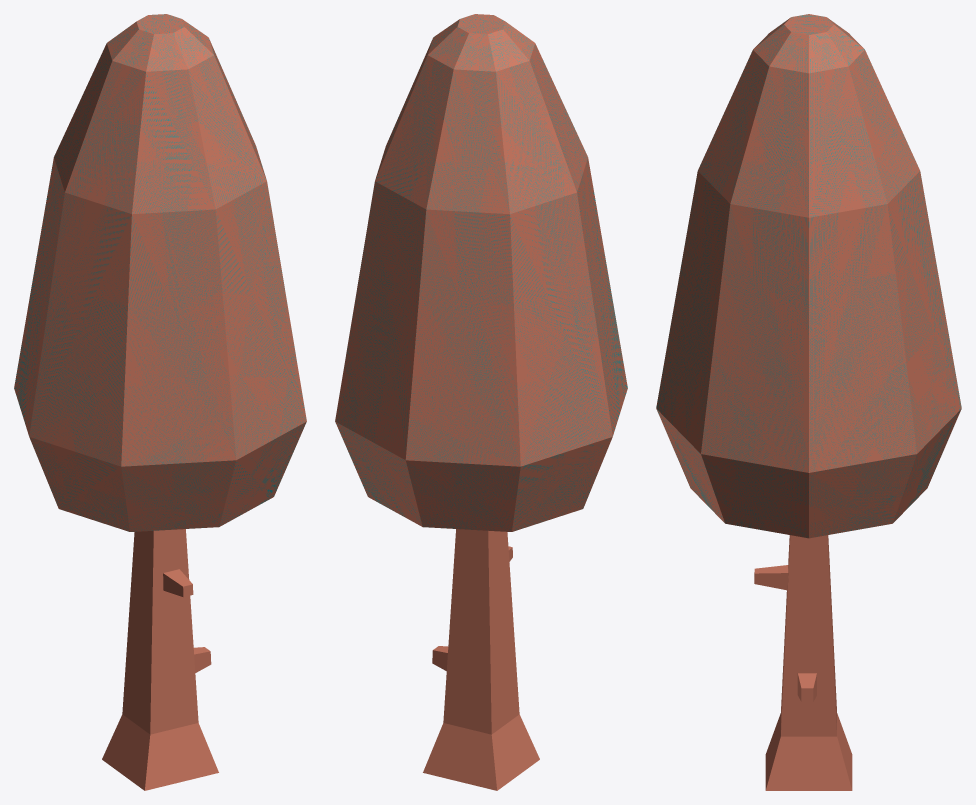
File: tree_cone_dark.dae
The picture shows the model from 3 angles, left to right: view 1: azimuth 30°, elevation 25°; view 2: azimuth 150°, elevation 25°; view 3: azimuth 270°, elevation 25°; orthographic projection.
Visible parts, largest first — view 1: tree_cone_dark; view 2: tree_cone_dark; view 3: tree_cone_dark.
Boxes of the visible parts, x1=… form: tree_cone_dark: x1=14, y1=14, x2=306, y2=790; tree_cone_dark: x1=335, y1=14, x2=627, y2=790; tree_cone_dark: x1=656, y1=14, x2=961, y2=790.
Bounding box in the file's own units: 0.5297 × 1.43 × 0.5297.
